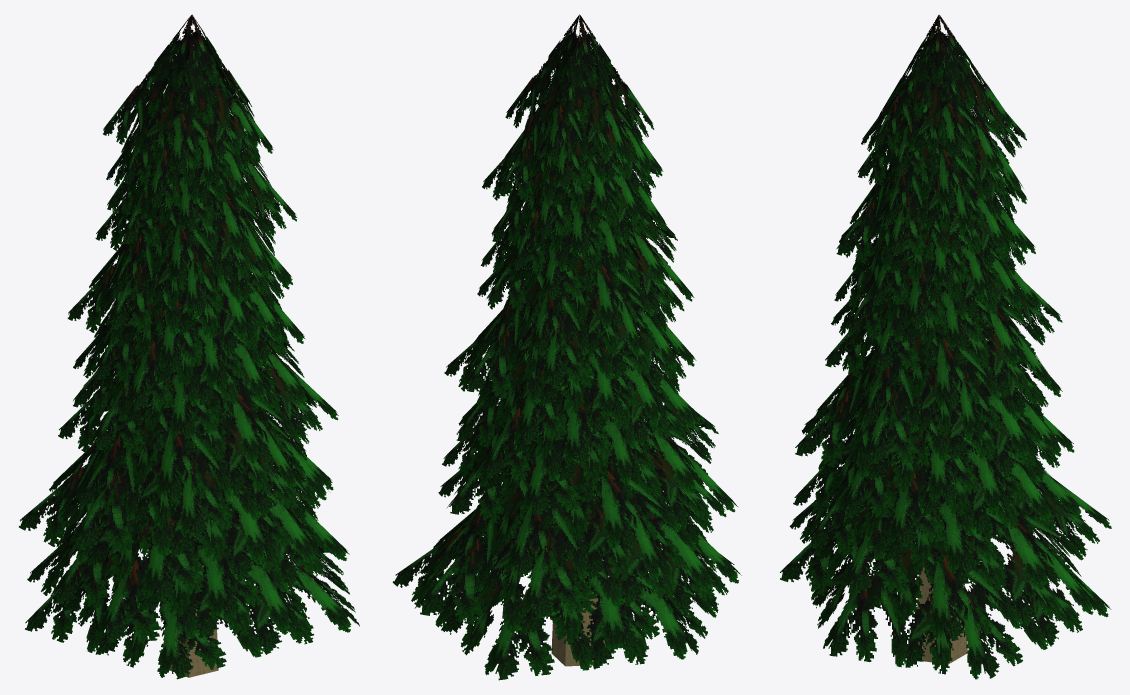
The model's file is woods_stuff.glb.
3 renders of one model, left to right at view 1: azimuth 30°, elevation 25°; view 2: azimuth 150°, elevation 25°; view 3: azimuth 270°, elevation 25°, orthographic.
Visible parts, largest first — view 1: tree; view 2: tree; view 3: tree.
Boxes of the visible parts, x1,y1,x2,y2 form: tree: [19, 14, 359, 679]; tree: [392, 14, 741, 680]; tree: [780, 15, 1111, 679].
Bounding box in the file's own units: 6.19 × 12.27 × 5.94.
Materials: 2 (2 with a texture image).
